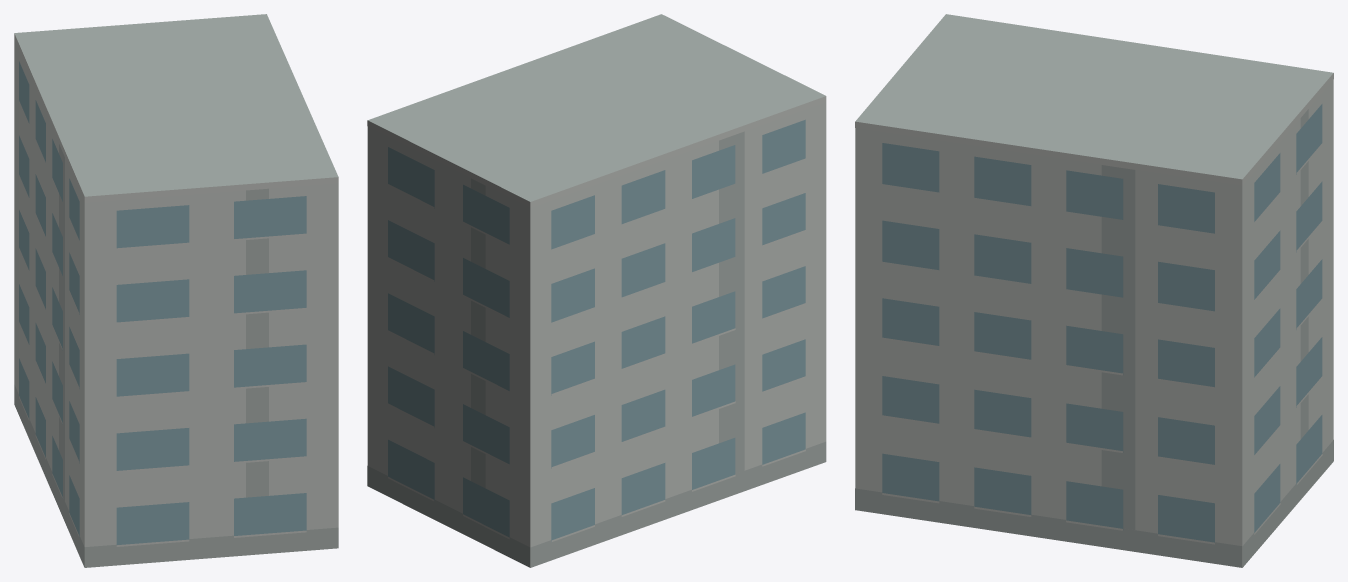
The model's file is survey-upis-32884261.glb.
3 renders of one model, left to right at view 1: azimuth 30°, elevation 25°; view 2: azimuth 150°, elevation 25°; view 3: azimuth 270°, elevation 25°, orthographic. The views are drawn at different scales.
Parts seen in each view (by area): view 1: survey-upis-32884261.tmp; view 2: survey-upis-32884261.tmp; view 3: survey-upis-32884261.tmp.
Boxes of the visible parts, <box> form: survey-upis-32884261.tmp: <box>14,14,338,567</box>; survey-upis-32884261.tmp: <box>367,14,826,567</box>; survey-upis-32884261.tmp: <box>855,14,1333,567</box>.
Bounding box in the file's own units: 13.25 × 14.5 × 16.2.
